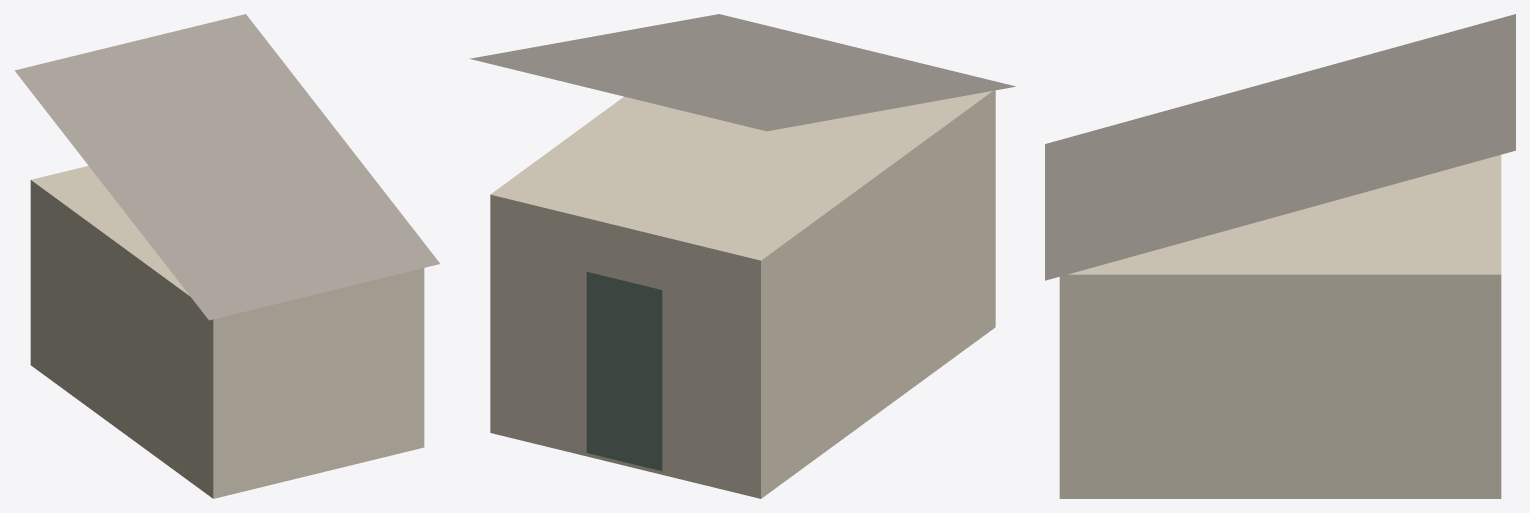
The model's file is recon_1835_north_a4_035__recommended_1835.glb.
3 views of the same model, side by side, from view 1: azimuth 30°, elevation 25°; view 2: azimuth 150°, elevation 25°; view 3: azimuth 270°, elevation 25° (orthographic). The views are drawn at different scales.
Parts seen in each view (by area): view 1: recon_1835_north_a4_035__recommended_1835; view 2: recon_1835_north_a4_035__recommended_1835; view 3: recon_1835_north_a4_035__recommended_1835.
Boxes of the visible parts, bbox=[...] form: recon_1835_north_a4_035__recommended_1835: bbox=[14, 14, 440, 498]; recon_1835_north_a4_035__recommended_1835: bbox=[469, 14, 1015, 498]; recon_1835_north_a4_035__recommended_1835: bbox=[1045, 14, 1515, 498].
Bounding box in the file's own units: 2.68 × 3.24 × 3.9.
